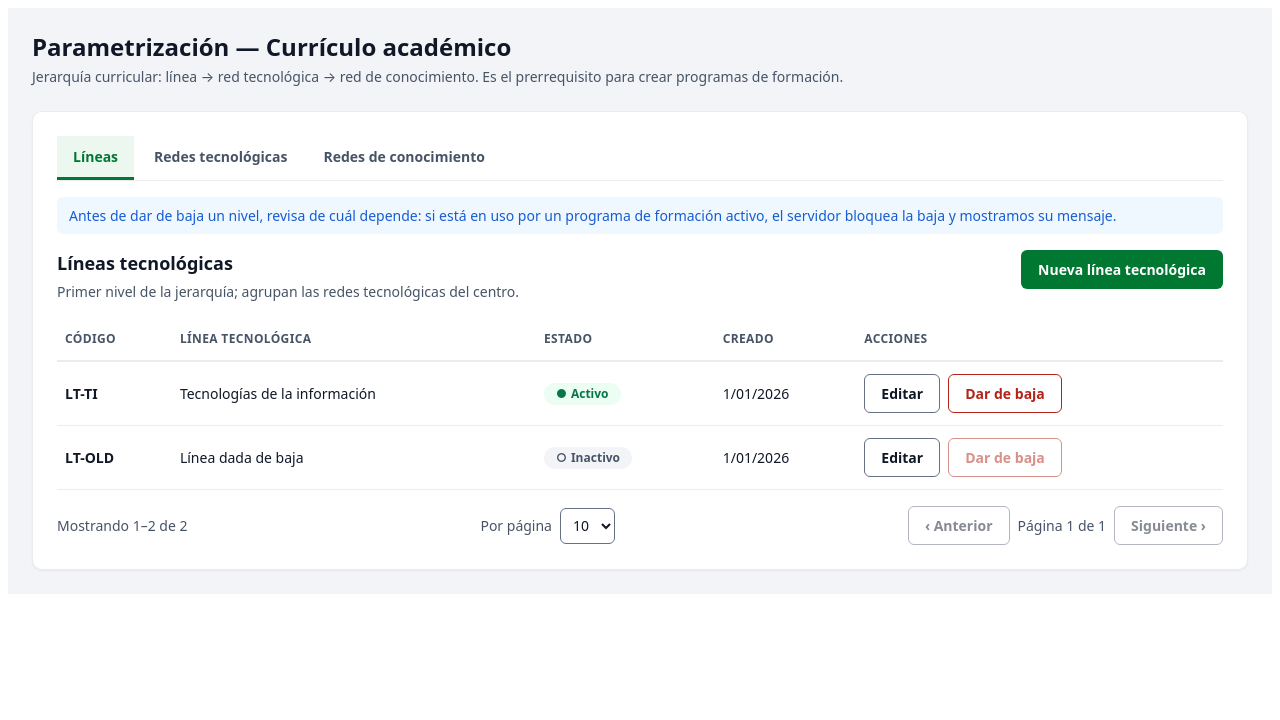
Test case: CurriculumSetupPage › E1: no envía el formulario vacío y muestra los errores
Expected: the text "Tecnologías de la información" is shown, x1=172 y1=361 x2=536 y2=426
Click the button "Nueva línea tecnológica".
click(1122, 270)  # box x1=1021 y1=250 x2=1223 y2=289
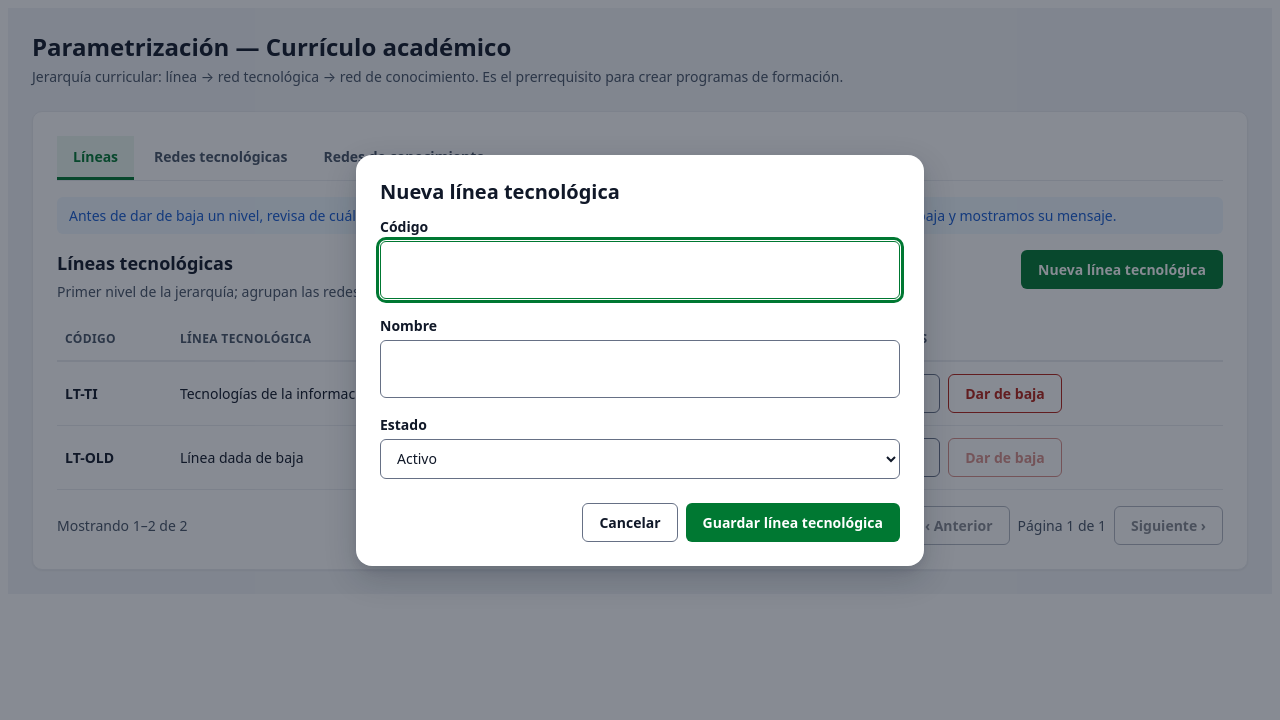
Click the button "Guardar línea tecnológica".
click(793, 522)  # box x1=686 y1=502 x2=900 y2=542
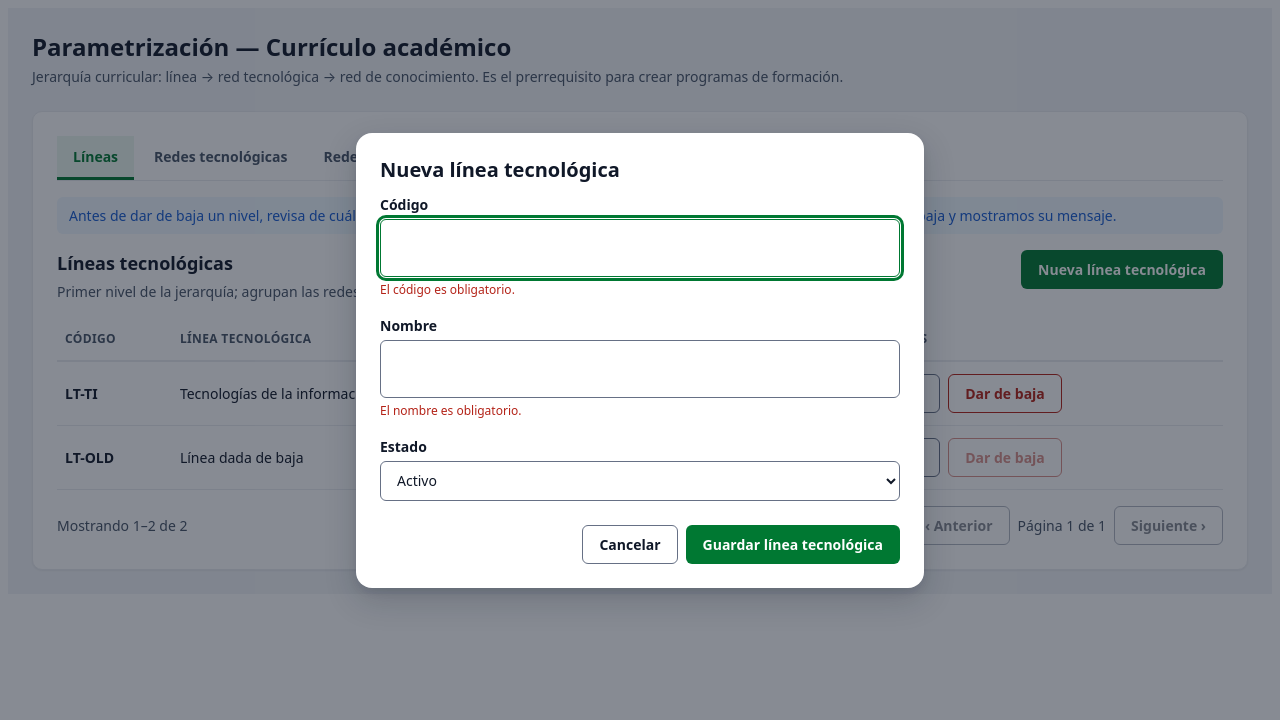
Now the text "El nombre es obligatorio." is shown, box x1=380 y1=402 x2=522 y2=418
